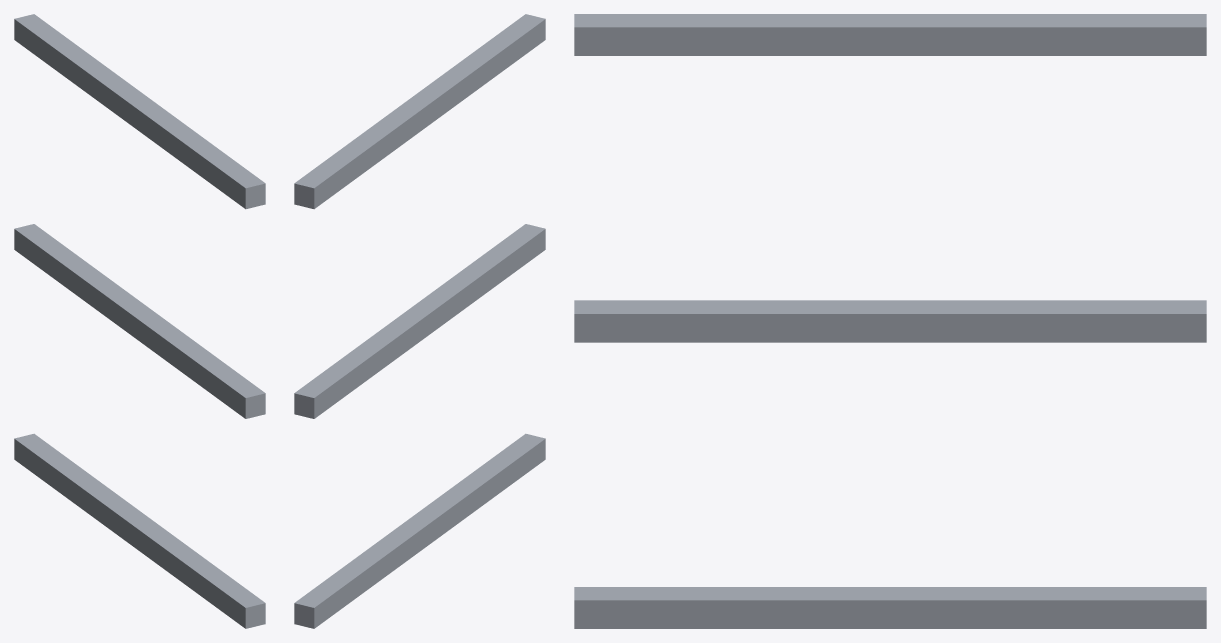
File: fx_speed.glb
3 views of the same model, side by side, from view 1: azimuth 30°, elevation 25°; view 2: azimuth 150°, elevation 25°; view 3: azimuth 270°, elevation 25° (orthographic). The views are drawn at different scales.
Parts seen in each view (by area): view 1: fx_speed; view 2: fx_speed; view 3: fx_speed.
Part boxes in pixels (x1=…): fx_speed: x1=14, y1=14, x2=265, y2=628; fx_speed: x1=294, y1=14, x2=545, y2=628; fx_speed: x1=574, y1=14, x2=1206, y2=628.
Bounding box in the file's own units: 0.015 × 0.315 × 0.3.
Materials: 1 (1 with a texture image).
